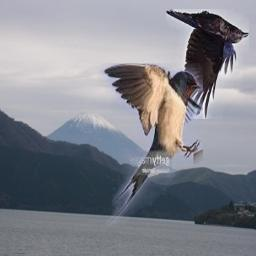Crow: (166, 9, 249, 119)
Swallow: (90, 63, 203, 226)
